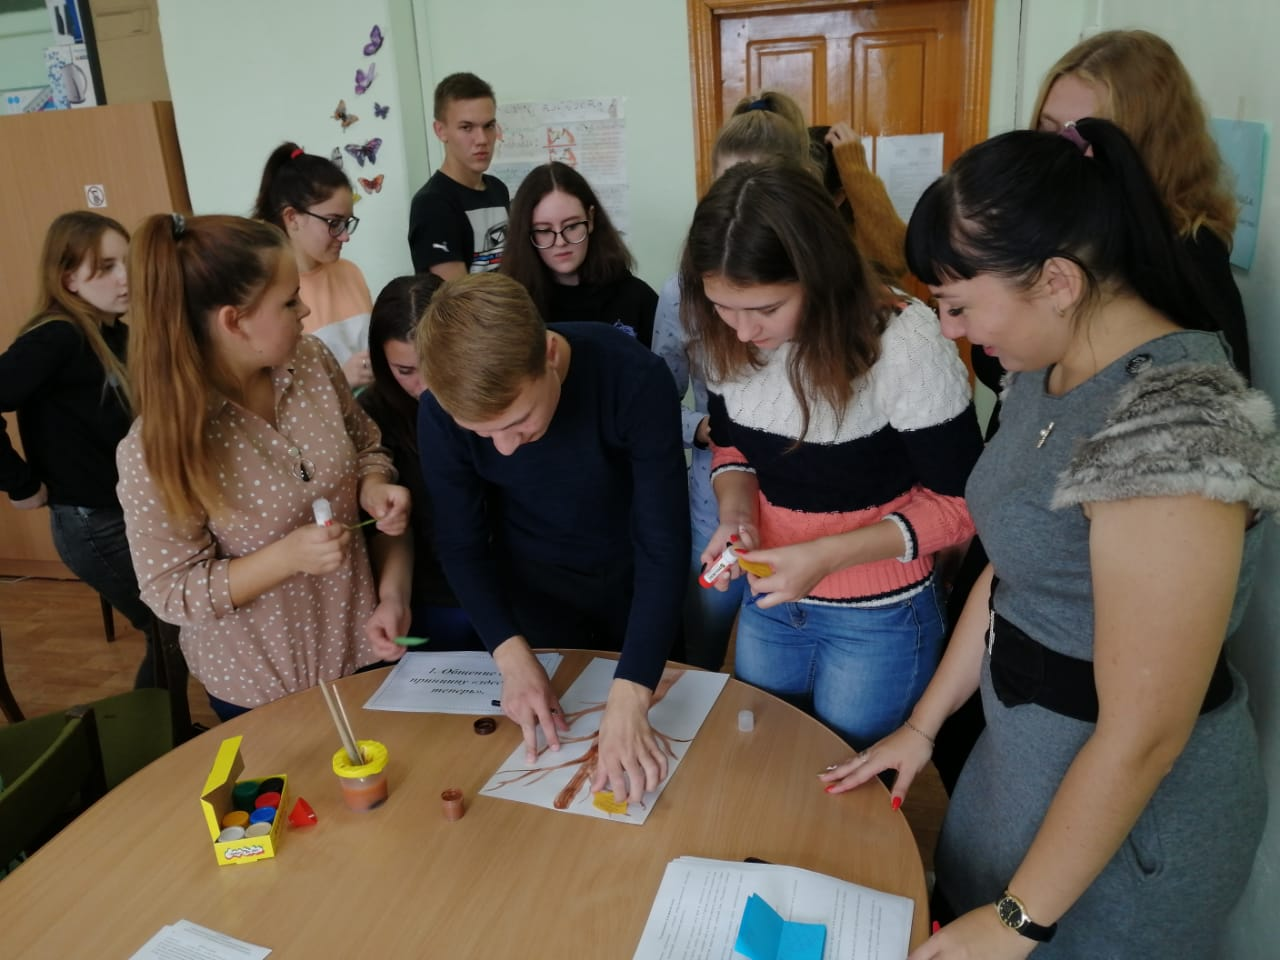students: (819, 130, 1280, 956), (680, 160, 984, 746), (117, 213, 409, 725), (412, 272, 687, 802), (9, 213, 189, 704), (1028, 28, 1239, 234), (249, 141, 377, 393), (369, 273, 450, 662), (506, 160, 661, 351), (408, 72, 517, 273), (712, 95, 813, 171)
